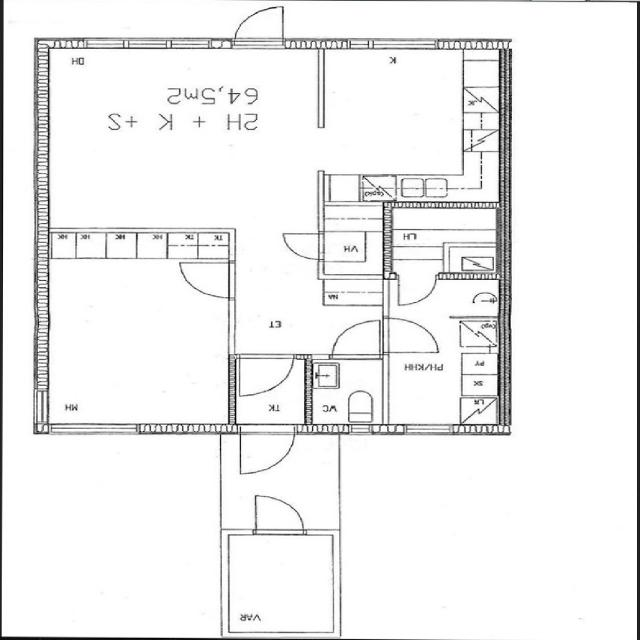door: (0, 419, 221, 640), (306, 333, 386, 435), (316, 199, 388, 295), (232, 423, 298, 479), (229, 352, 298, 404), (378, 312, 444, 359), (324, 314, 387, 362), (247, 492, 310, 536), (228, 3, 289, 48), (175, 260, 235, 298), (388, 274, 442, 311), (274, 228, 328, 264)
window: (75, 35, 224, 54), (39, 419, 145, 441), (26, 384, 56, 434), (366, 36, 438, 54), (396, 422, 458, 440)
zone: (34, 39, 332, 228), (35, 243, 231, 431), (318, 46, 502, 205), (223, 532, 339, 637), (378, 334, 504, 429), (385, 204, 504, 278), (319, 203, 390, 297), (305, 356, 385, 433)
